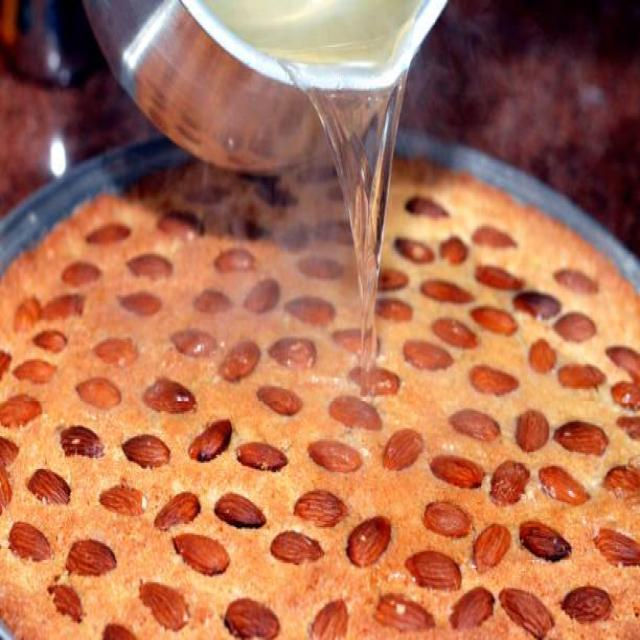pasposa: (0, 118, 640, 640)
